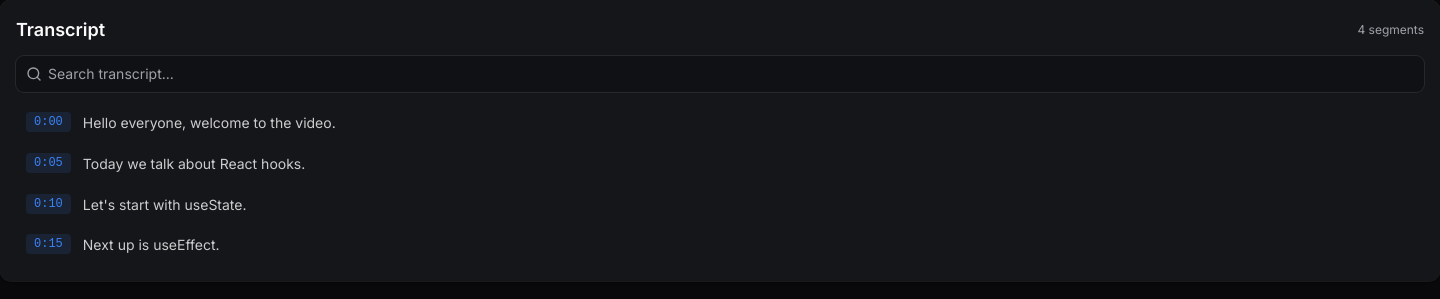
TranscriptViewer › shows no results message for unmatched search
Type "nonexistent" into the field with placeholder "Search transcript..." at (720, 74), box [16, 56, 1424, 92]
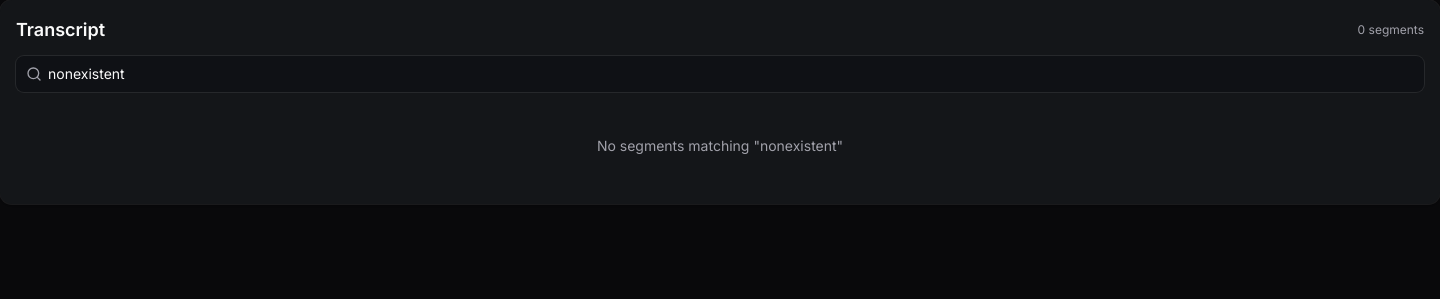
Check: the text "No segments matching \"nonexistent\"" is shown, box [597, 137, 843, 154]
